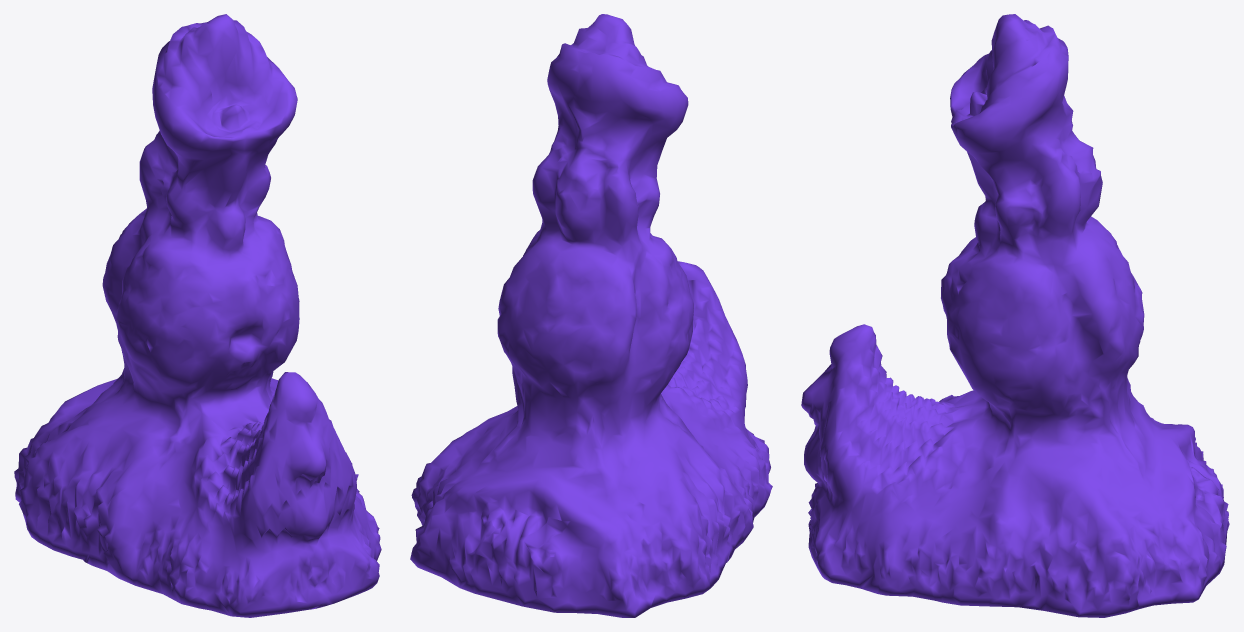
Rendered from medium-flat-ar.glb.
3 renders of one model, left to right at view 1: azimuth 30°, elevation 25°; view 2: azimuth 150°, elevation 25°; view 3: azimuth 270°, elevation 25°, orthographic. The views are drawn at different scales.
Bounding box in the file's own units: 0.15 × 0.2567 × 0.1872.
